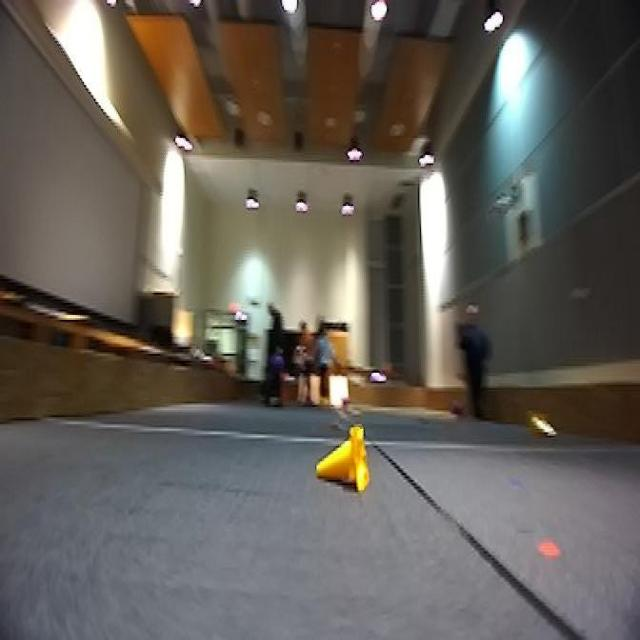frc_cone: (318, 426, 376, 496)
